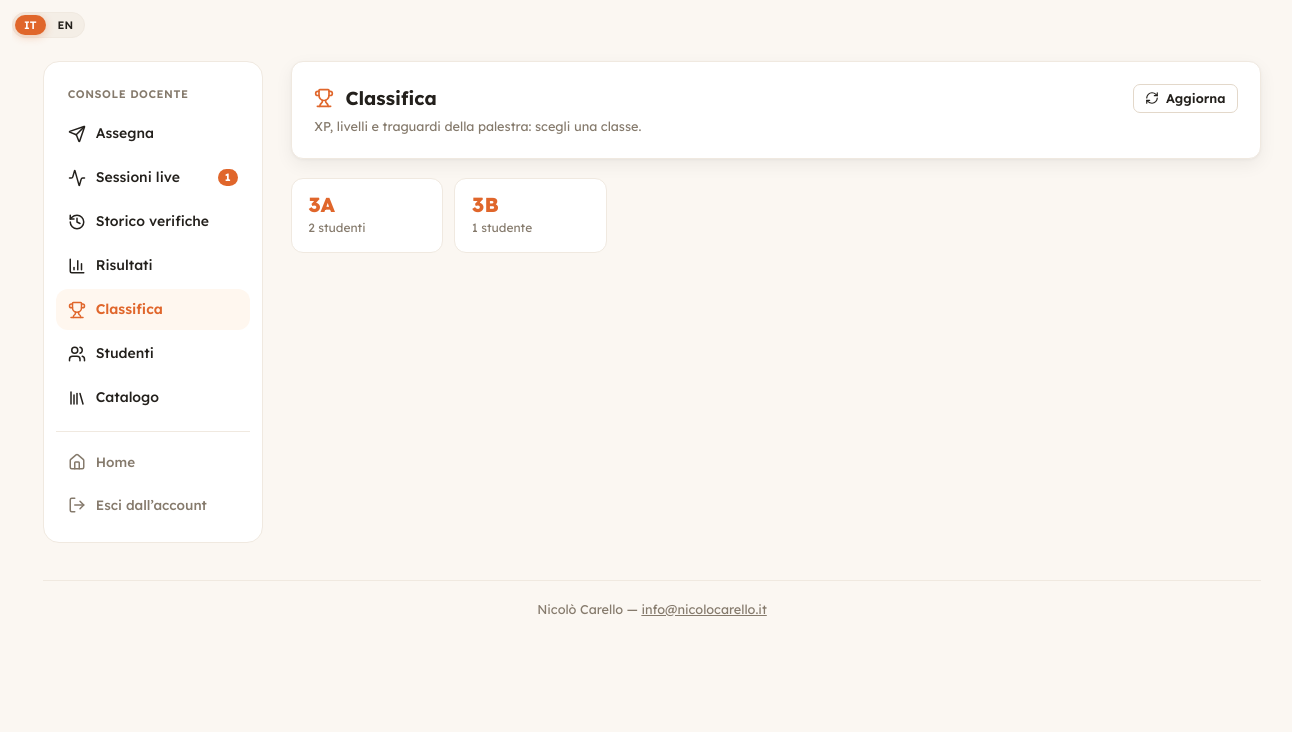
Test: console docente — Classifica › mostra gli esercizi risolti della classe
Click the button "3A 2 studenti". click: click(367, 216)
box: [291,178,443,253]
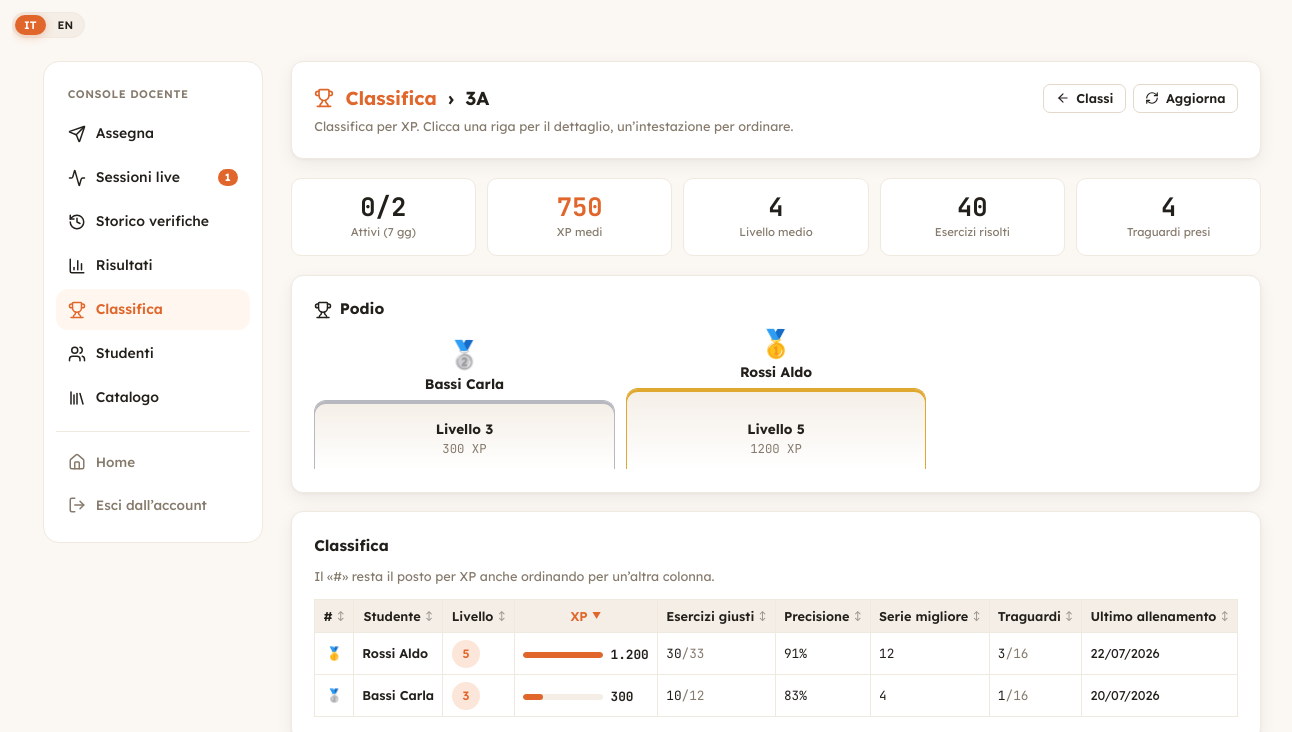
expect the heading "Podio" is shown: met, box [314,299,384,319]
expect the text "40" is shown: met, box [957,190,988,224]
expect the text "Esercizi risolti" is shown: met, box [935,225,1010,239]
